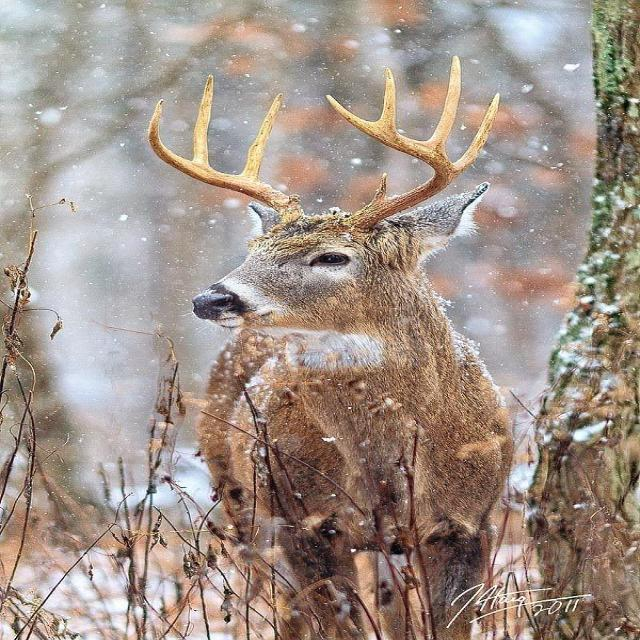L-F: (323, 93, 455, 232)
L-G1: (370, 172, 390, 203)
L-G2: (452, 92, 501, 181)
L-G3: (423, 54, 462, 155)
L-G4: (373, 66, 399, 133)
R-F: (148, 98, 304, 224)
R-G2: (236, 92, 283, 182)
R-G3: (191, 74, 214, 168)
